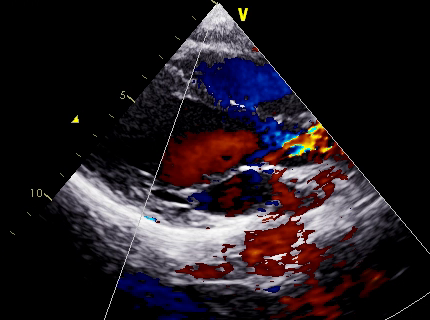AR: (207, 110, 306, 172)
